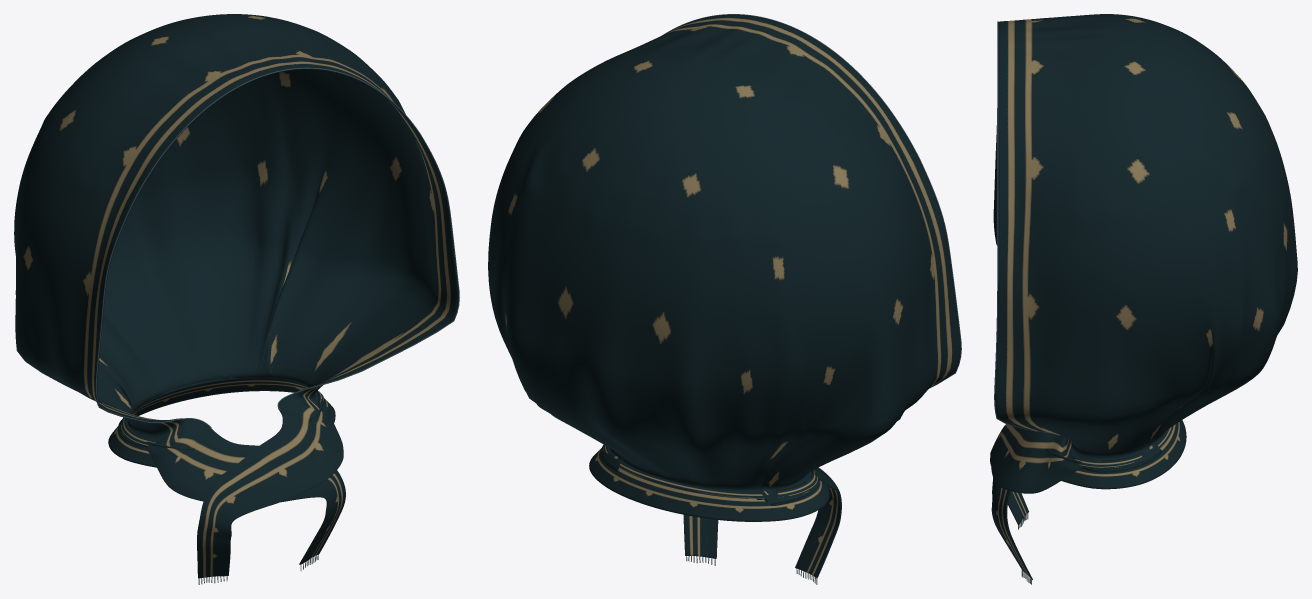
Rendered from Feminine-open-pashmina240-headgear.glb.
3 views of the same model, side by side, from view 1: azimuth 30°, elevation 25°; view 2: azimuth 150°, elevation 25°; view 3: azimuth 270°, elevation 25° (orthographic). The views are drawn at different scales.
Parts seen in each view (by area): view 1: 226 headgear / Headwear / continuous woven pashmina239, 226 headgear / Headwear / face edge239; view 2: 226 headgear / Headwear / continuous woven pashmina239, 226 headgear / Headwear / face edge239; view 3: 226 headgear / Headwear / continuous woven pashmina239, 226 headgear / Headwear / face edge239.
Part boxes in pixels (x1,y1,x2,y2): 226 headgear / Headwear / continuous woven pashmina239: (14,14,458,578); 226 headgear / Headwear / face edge239: (95,67,459,427); 226 headgear / Headwear / continuous woven pashmina239: (488,14,960,578); 226 headgear / Headwear / face edge239: (663,14,961,387); 226 headgear / Headwear / continuous woven pashmina239: (990,14,1297,579); 226 headgear / Headwear / face edge239: (994,21,1047,432).
Bounding box in the file's own units: 1.02 × 1.35 × 0.72.
3 materials, 1 textured.
